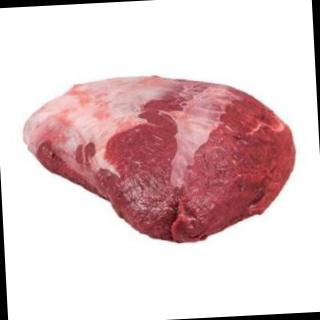Daging Sapi: (20, 70, 300, 255)
